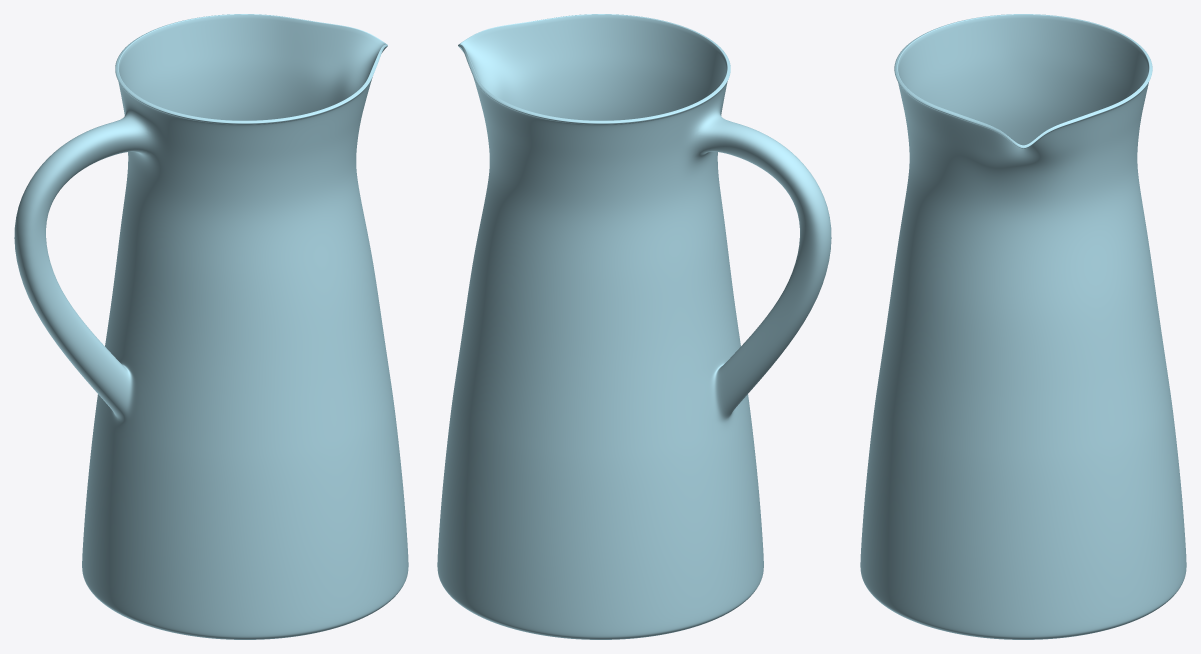
The model's file is brocca.fbx.
3 views of the same model, side by side, from view 1: azimuth 30°, elevation 25°; view 2: azimuth 150°, elevation 25°; view 3: azimuth 270°, elevation 25° (orthographic).
Visible parts, largest first — view 1: Water jug; view 2: Water jug; view 3: Water jug.
Part boxes in pixels (left/top/right/bottom): Water jug: left=14, top=14, right=408, bottom=639; Water jug: left=437, top=14, right=831, bottom=639; Water jug: left=860, top=14, right=1186, bottom=639.
Bounding box in the file's own units: 19.87 × 26.02 × 15.2.
